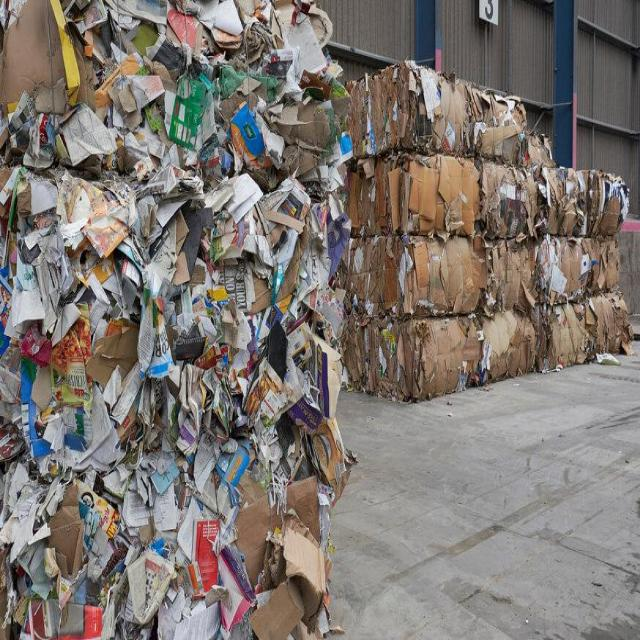heap: (1, 1, 350, 640), (333, 75, 640, 410)
